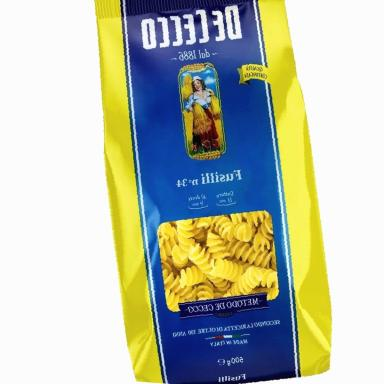pasta package: (96, 0, 330, 383)
